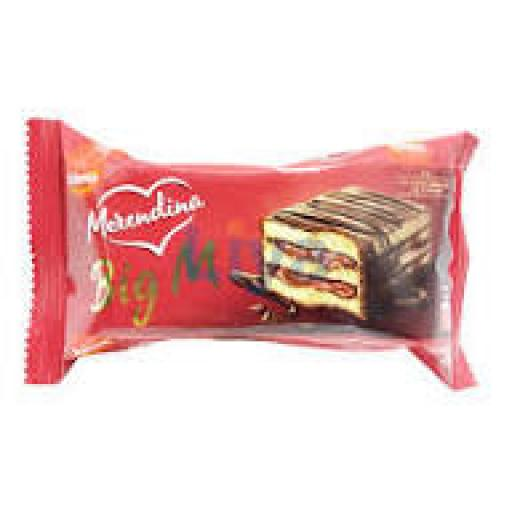merendina: (19, 107, 480, 389)
